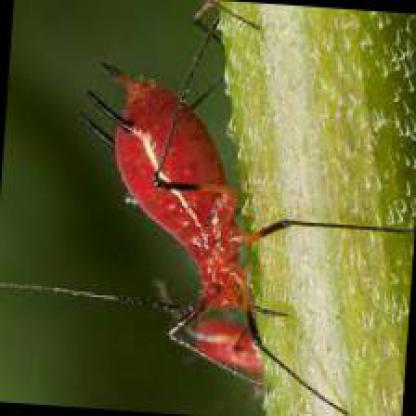uroleucon compositae: (79, 67, 294, 347)
